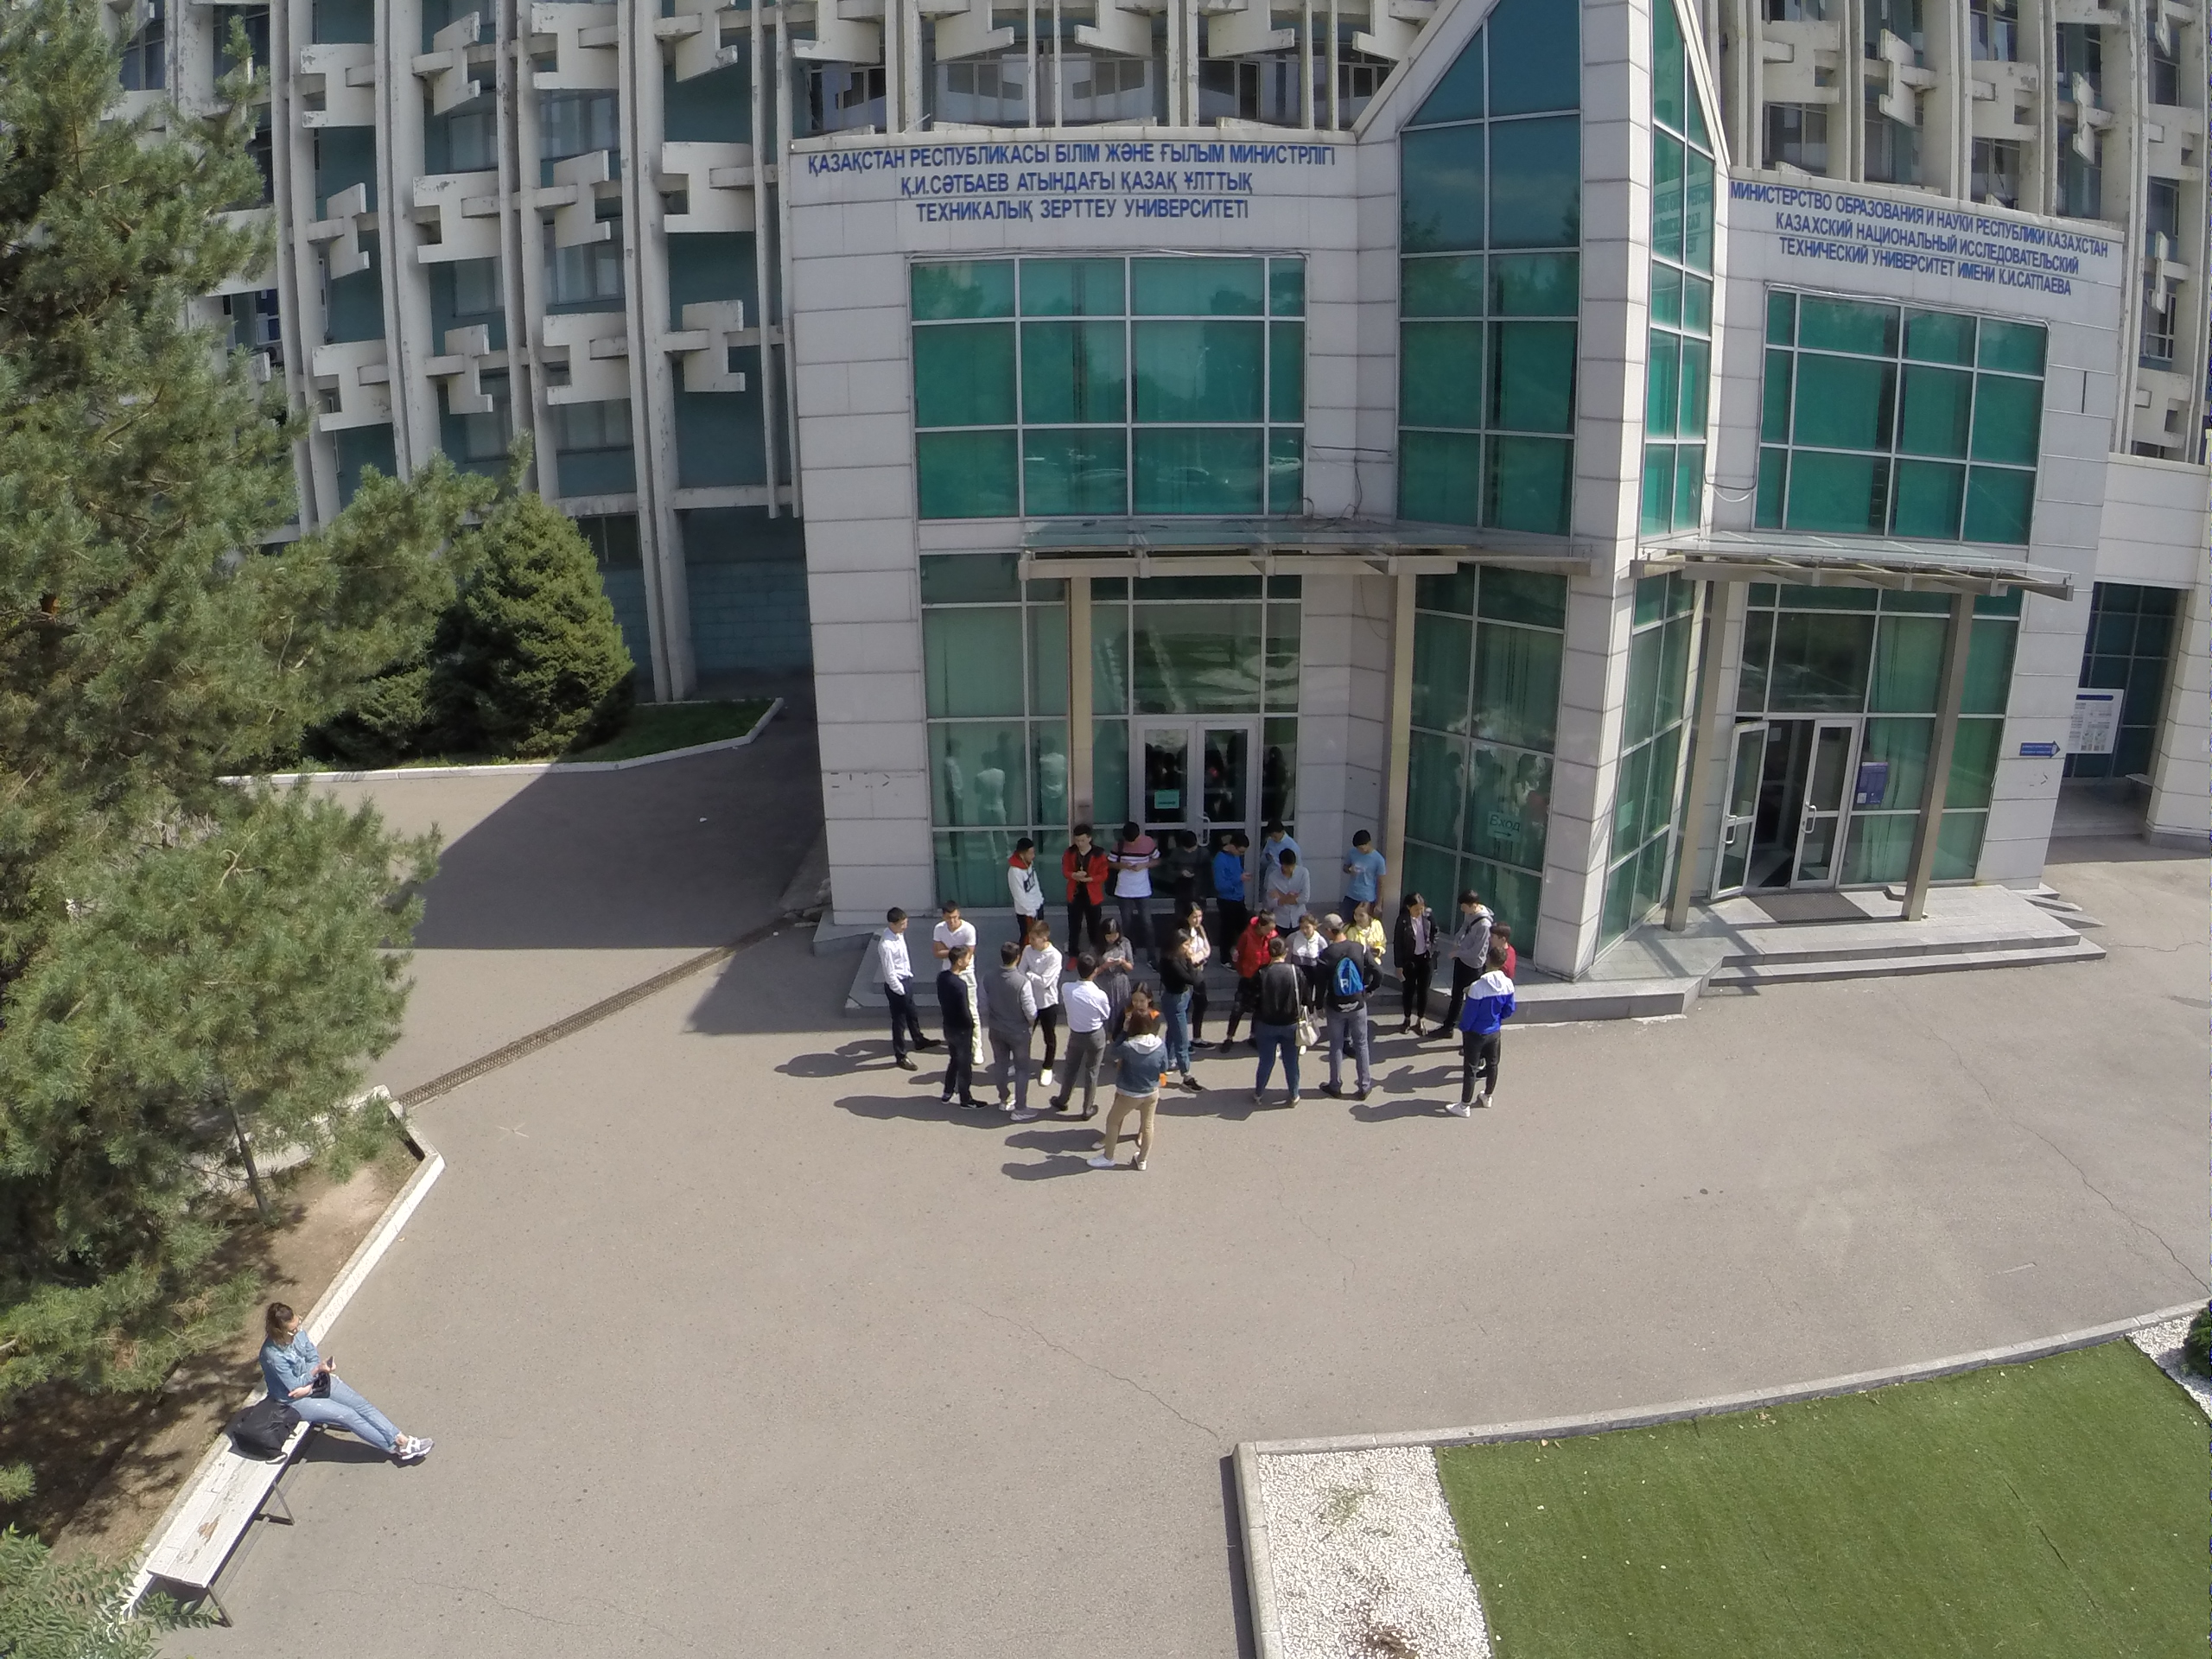person: (247, 1301, 442, 1487), (1448, 950, 1524, 1126), (870, 891, 938, 1076), (1242, 932, 1308, 1111), (927, 939, 982, 1123), (1102, 1014, 1166, 1177), (987, 940, 1035, 1138), (1321, 913, 1371, 1100), (1162, 930, 1211, 1096), (1020, 919, 1062, 1096), (1069, 956, 1112, 1117), (1108, 820, 1160, 949), (1262, 847, 1322, 944), (1446, 906, 1485, 1042), (1401, 897, 1434, 1046), (1217, 845, 1253, 971), (1067, 830, 1106, 943), (1092, 915, 1134, 1007), (1007, 833, 1041, 934), (1171, 841, 1210, 925), (1344, 836, 1389, 912), (934, 899, 982, 956), (1243, 907, 1284, 973), (1255, 821, 1297, 869), (1489, 934, 1519, 960)
